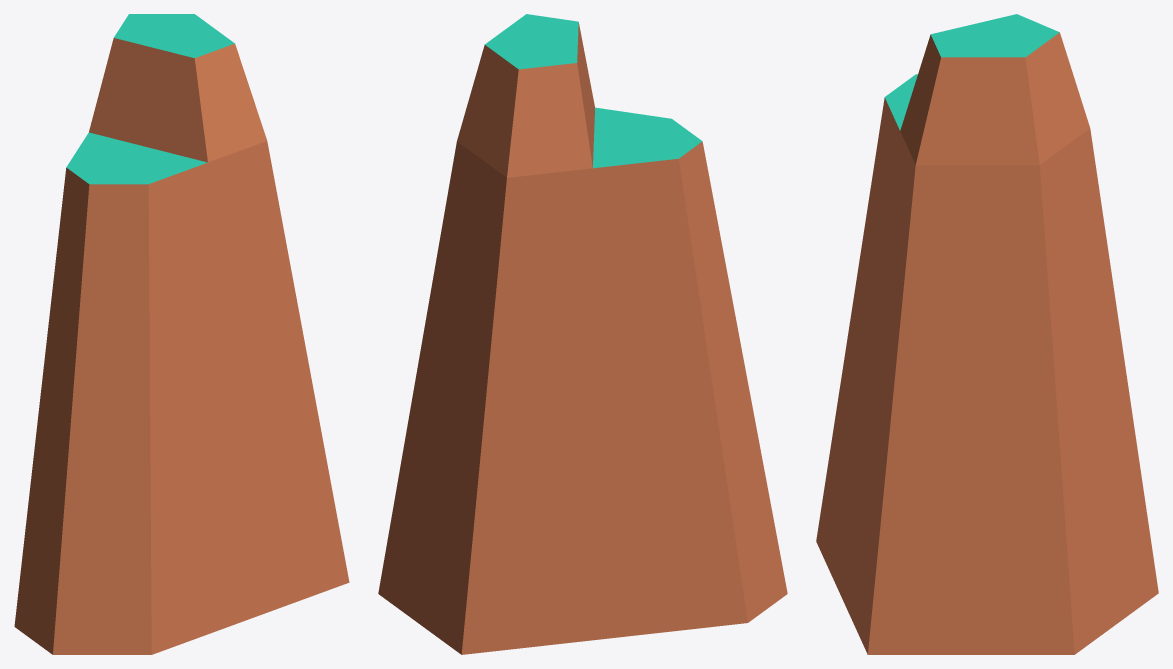
File: rock_tallC.obj
The picture shows the model from 3 angles, left to right: view 1: azimuth 30°, elevation 25°; view 2: azimuth 150°, elevation 25°; view 3: azimuth 270°, elevation 25°; orthographic projection. The views are drawn at different scales.
Parts seen in each view (by area): view 1: rock_tallC; view 2: rock_tallC; view 3: rock_tallC.
Part boxes in pixels (x1,y1,x2,y2): rock_tallC: (14, 14, 349, 654); rock_tallC: (378, 14, 787, 654); rock_tallC: (816, 14, 1158, 654).
Size of the model in its own units: 0.4562 by 0.7829 by 0.4365.
